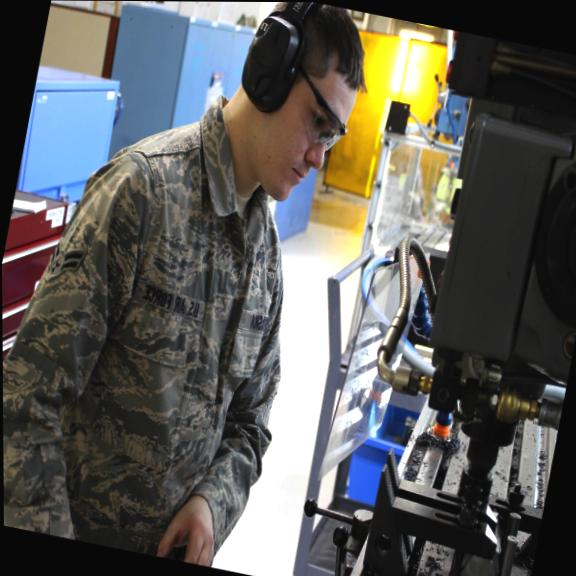no_safety_vest: (1, 90, 343, 537)
